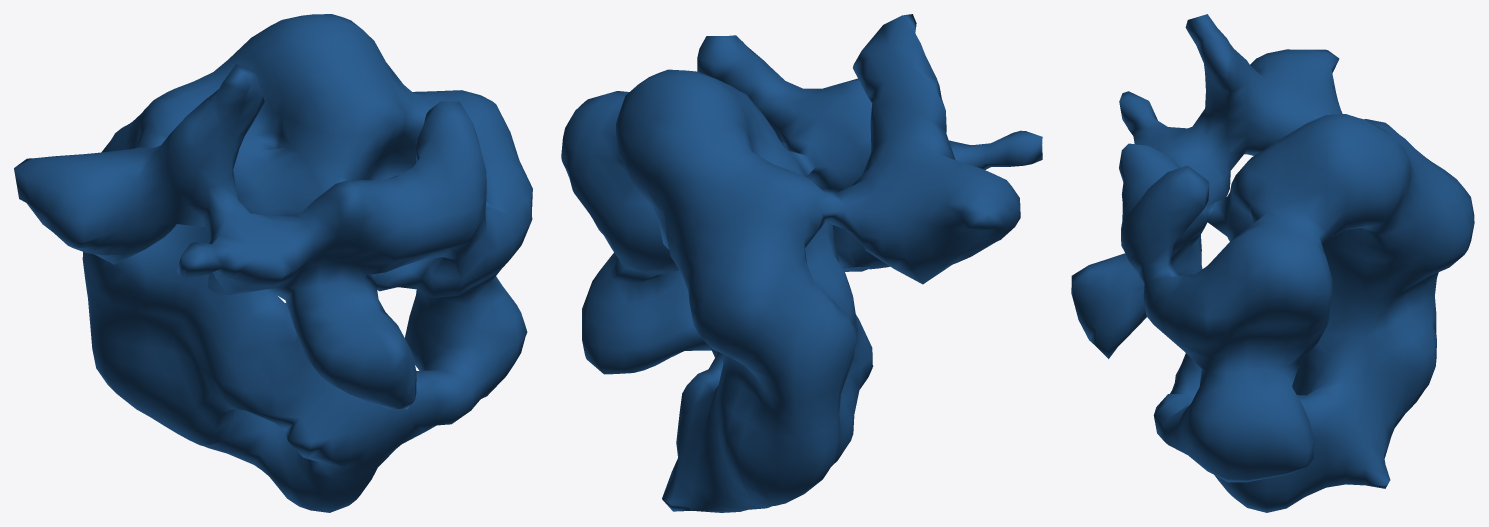
The model's file is 3DPX-000012.glb.
The picture shows the model from 3 angles, left to right: view 1: azimuth 30°, elevation 25°; view 2: azimuth 150°, elevation 25°; view 3: azimuth 270°, elevation 25°; orthographic projection. The views are drawn at different scales.
Parts seen in each view (by area): view 1: surface; view 2: surface; view 3: surface.
Boxes of the visible parts, left/top/right/bottom form: surface: left=14, top=14, right=532, bottom=512; surface: left=561, top=14, right=1042, bottom=512; surface: left=1071, top=14, right=1474, bottom=512.
Bounding box in the file's own units: 145 × 148 × 123.
